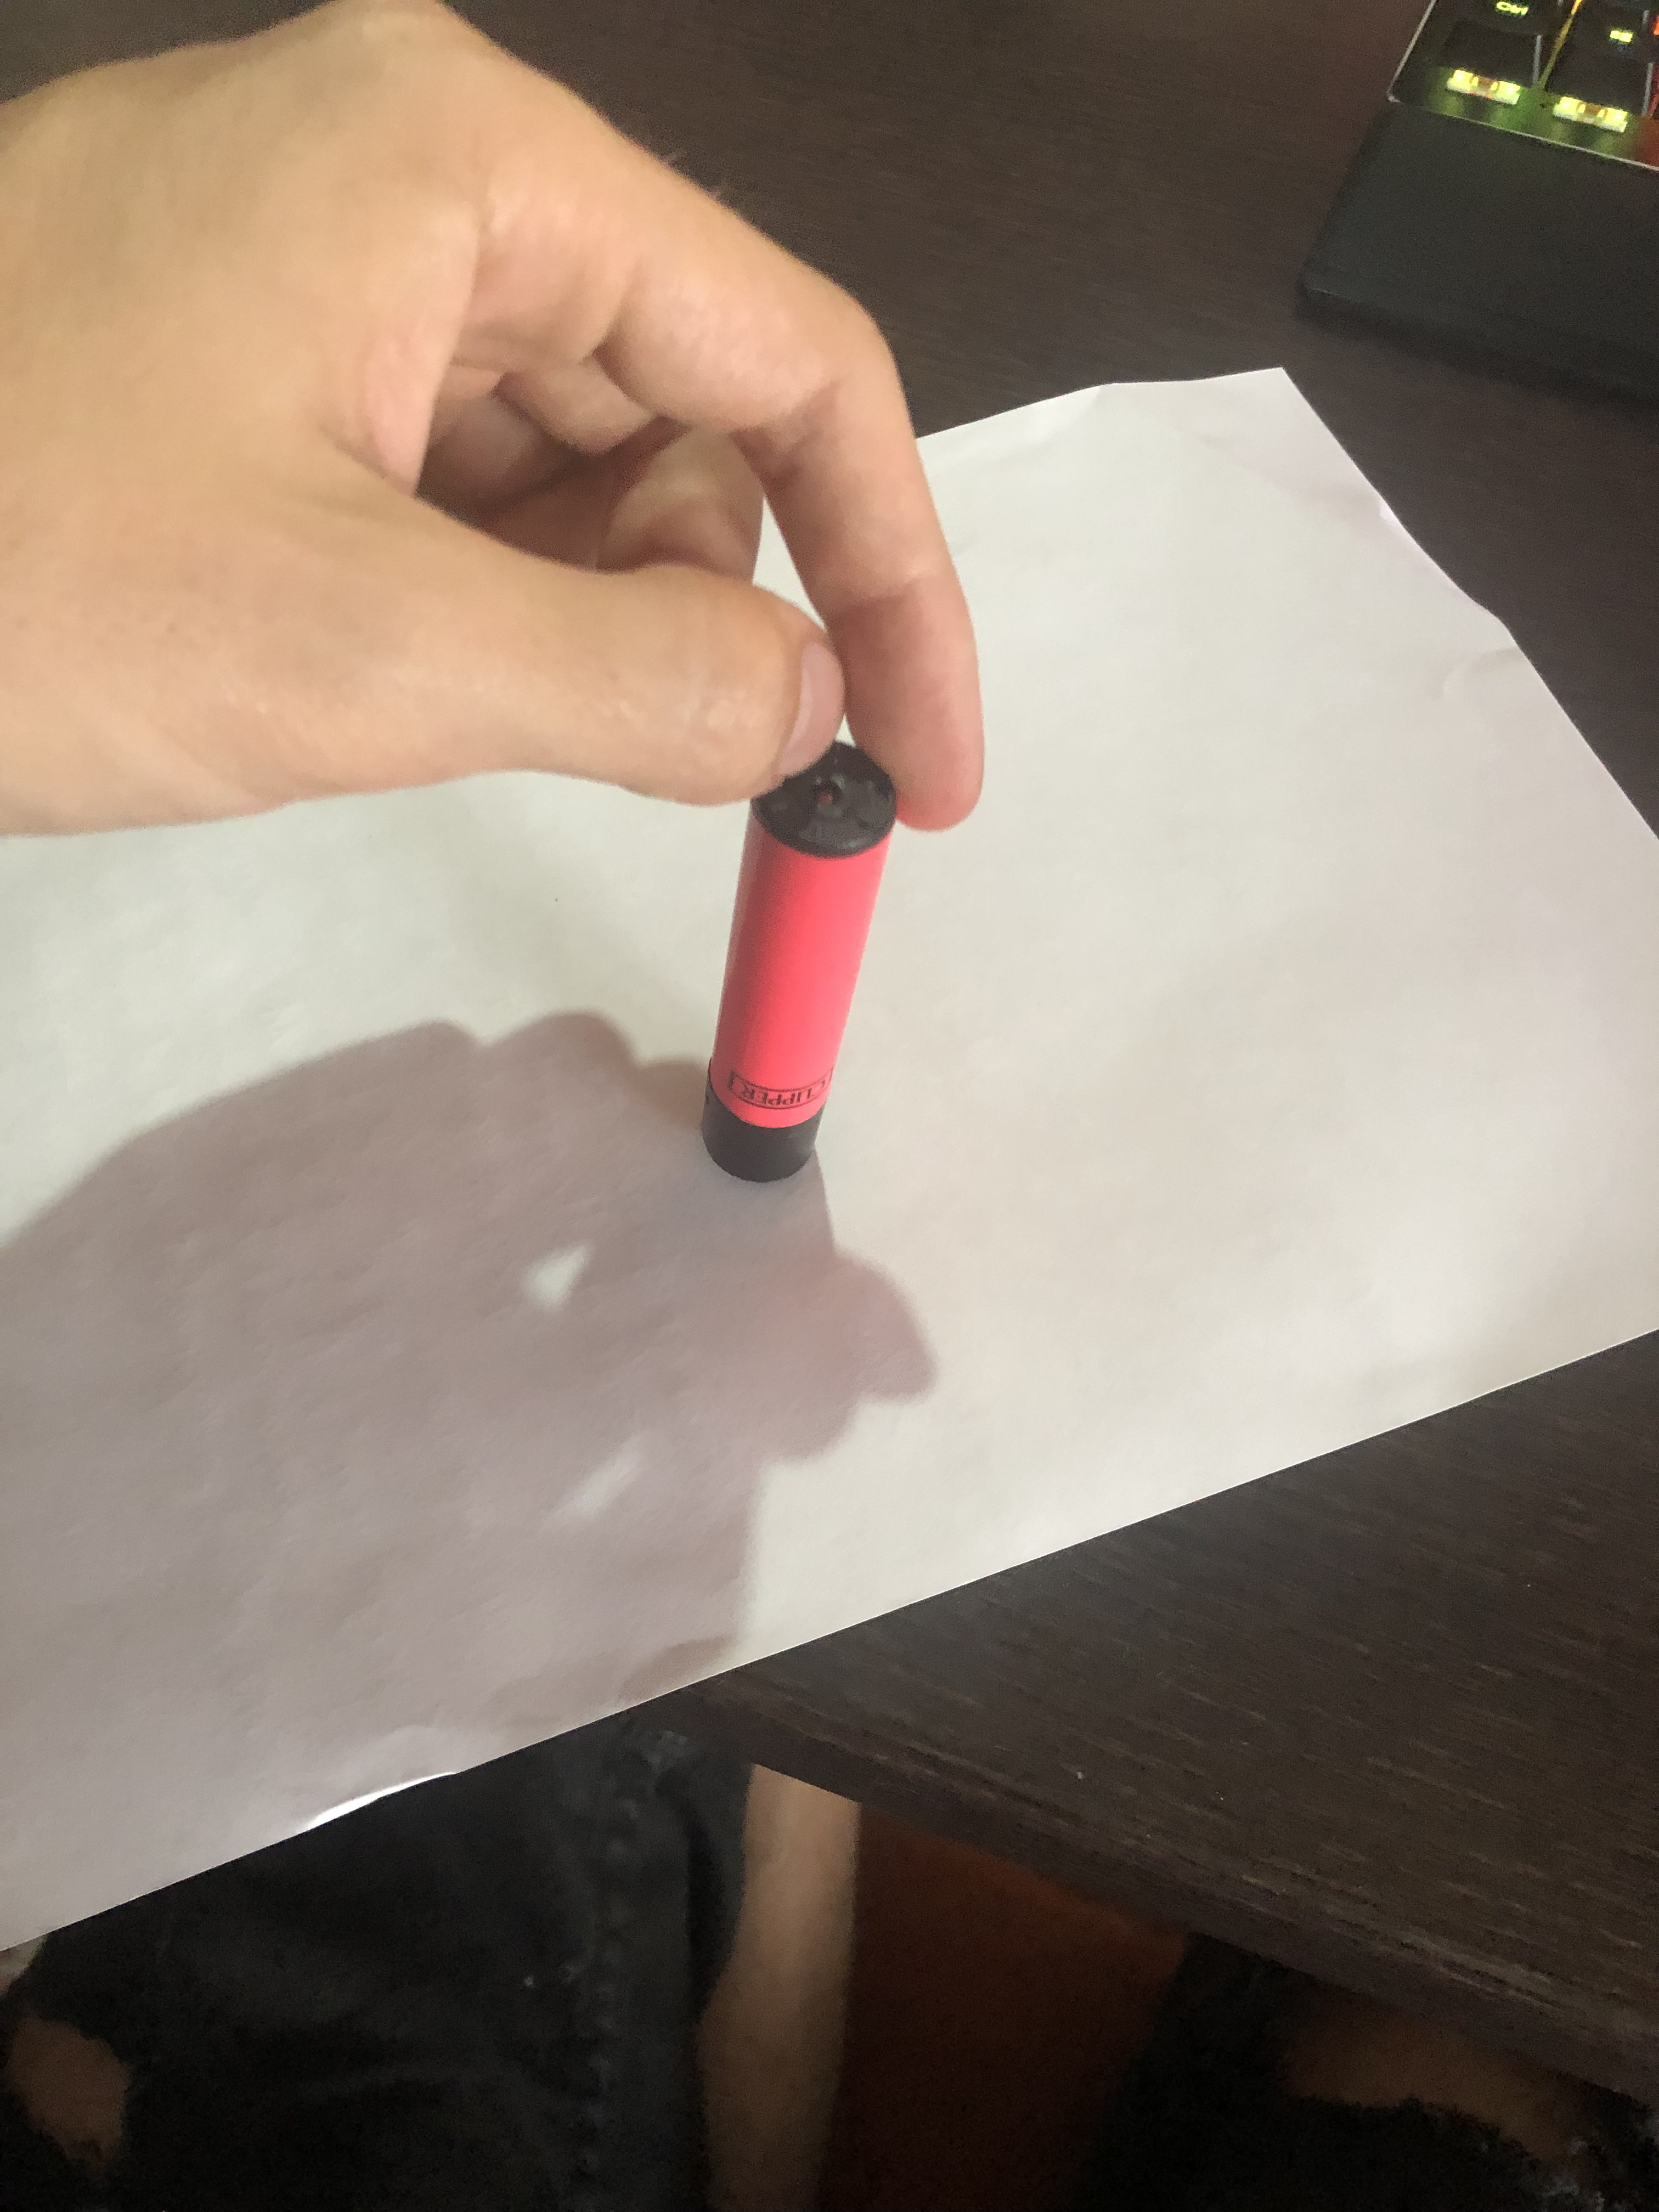Mechero: (702, 738, 908, 1188)
